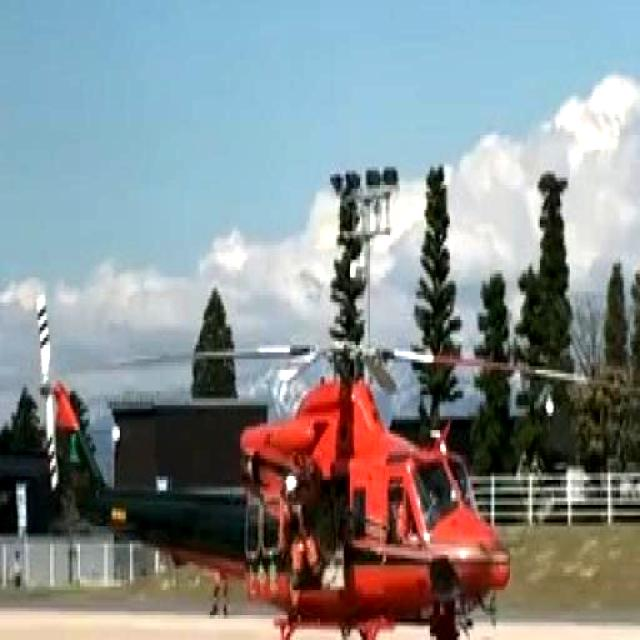drone: (20, 259, 640, 640)
